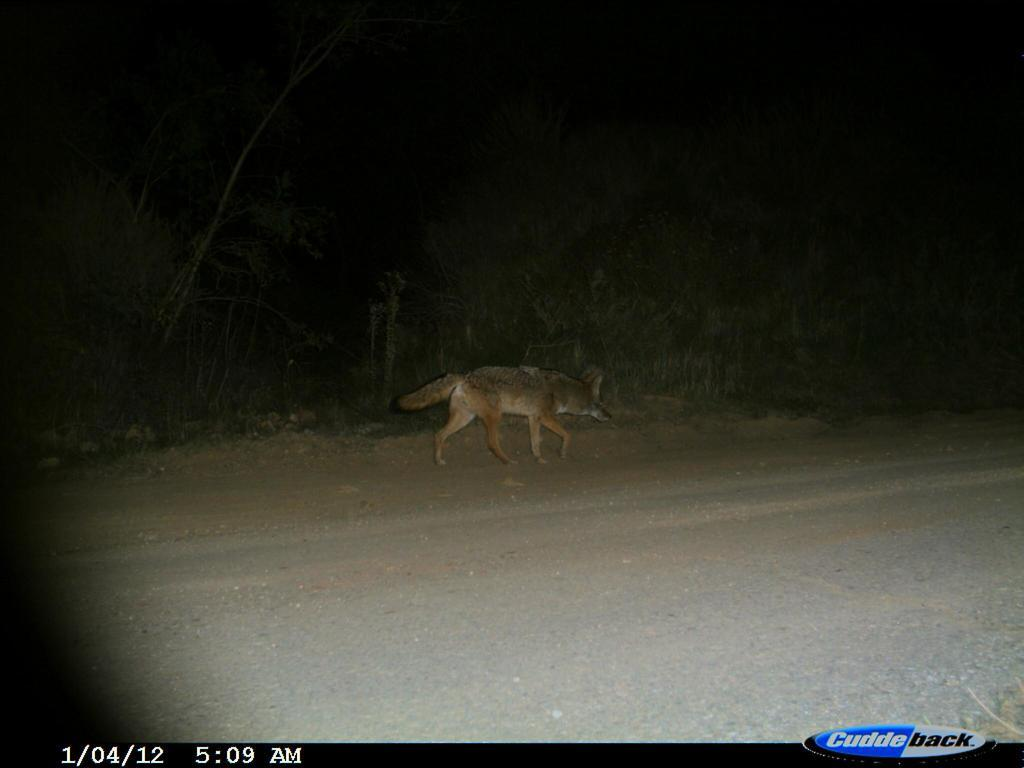coyote: (381, 350, 624, 474)
